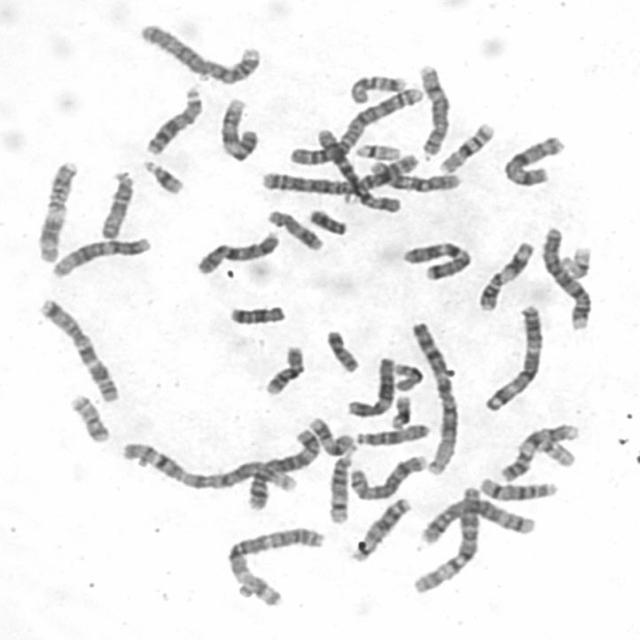A1: (115, 436, 302, 493), (406, 317, 461, 478)
A2: (283, 83, 425, 167), (254, 151, 421, 197)
A3: (222, 522, 326, 607), (480, 300, 545, 412)
B4: (134, 18, 264, 86), (537, 222, 594, 332)
B5: (241, 425, 322, 512), (415, 493, 537, 546)
C10: (190, 227, 282, 277), (364, 154, 463, 193)
C11: (31, 155, 80, 264), (472, 236, 536, 312)
C12: (46, 231, 153, 279), (341, 352, 397, 418)
C6: (408, 480, 484, 596), (312, 124, 405, 214)
C7: (33, 292, 121, 404), (396, 235, 474, 282)
C8: (344, 449, 429, 502), (412, 58, 452, 159)
C9: (494, 418, 580, 484), (213, 92, 260, 163)
D13: (139, 80, 204, 157), (345, 492, 413, 564)
D14: (474, 472, 560, 502), (322, 450, 354, 526)
D15: (94, 166, 136, 241), (351, 418, 433, 447)
E16: (433, 117, 498, 175), (259, 340, 307, 397)
E17: (262, 209, 326, 253), (303, 412, 358, 457)
E18: (346, 72, 410, 105), (224, 300, 288, 326)
F19: (556, 242, 594, 280), (392, 360, 426, 393)
F20: (65, 390, 111, 444), (323, 329, 360, 372)
G21: (138, 155, 186, 196), (386, 390, 413, 431)
G22: (532, 432, 578, 468), (350, 139, 403, 162)
X: (498, 130, 566, 189)
Y: (303, 204, 349, 236)
